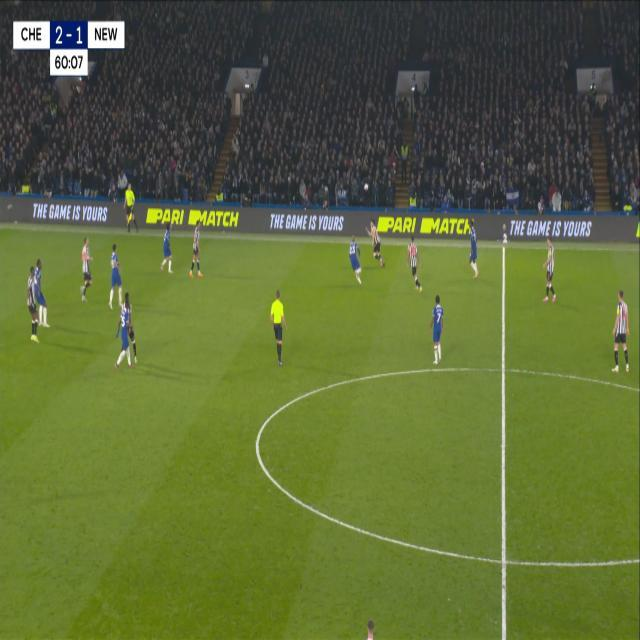Ball: (362, 180, 369, 193)
Chelsea: (112, 287, 140, 373), (427, 290, 447, 368), (32, 258, 52, 331), (106, 238, 125, 312), (465, 213, 481, 281), (346, 230, 364, 288), (158, 218, 176, 276)
Newcastle: (608, 285, 632, 379), (540, 232, 560, 307), (77, 232, 96, 304), (364, 215, 387, 273), (404, 230, 424, 296), (190, 218, 206, 282), (26, 266, 38, 341)
Refree: (268, 284, 290, 370)
